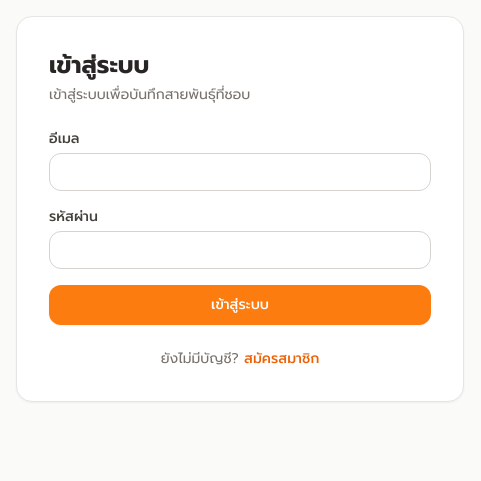
it: หน้า Login › Backend ตอบรหัสผิด → แสดงข้อความจาก Backend
In the field labelled "อีเมล": (240, 172) [49,153,431,191], type "a@b.com"
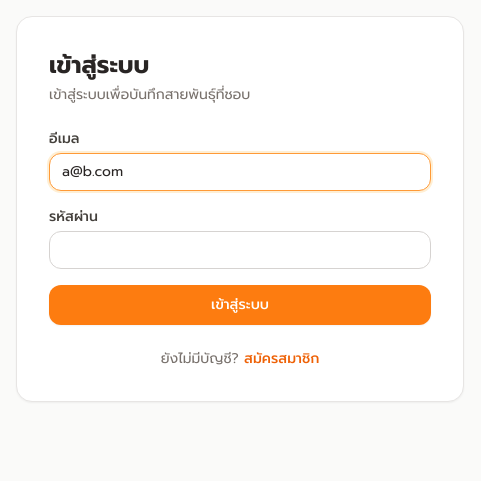
In the password field labelled "รหัสผ่าน": (240, 250) [49,231,431,269], type "wrongpass"
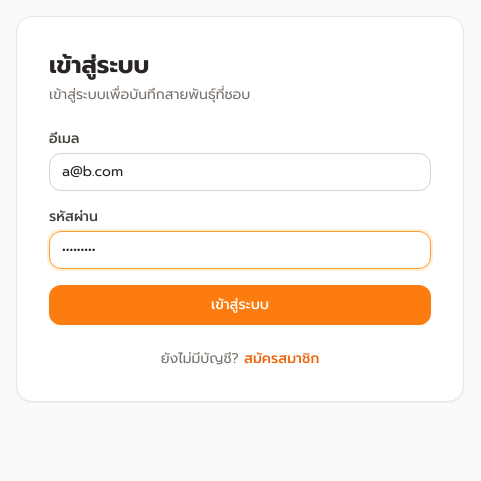
Click the button "เข้าสู่ระบบ": (240, 305) [49,285,431,325]
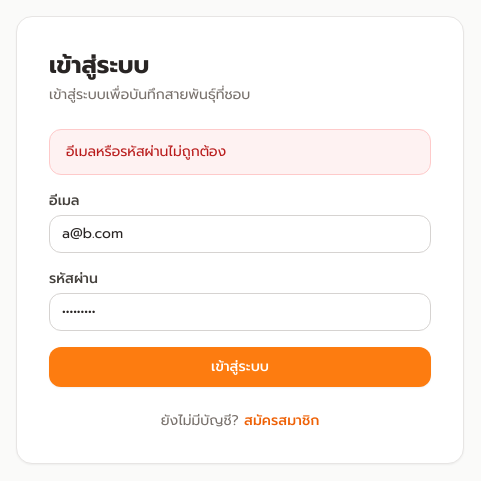
Now the message reads "อีเมลหรือรหัสผ่านไม่ถูกต้อง", box [66,141,226,162]
